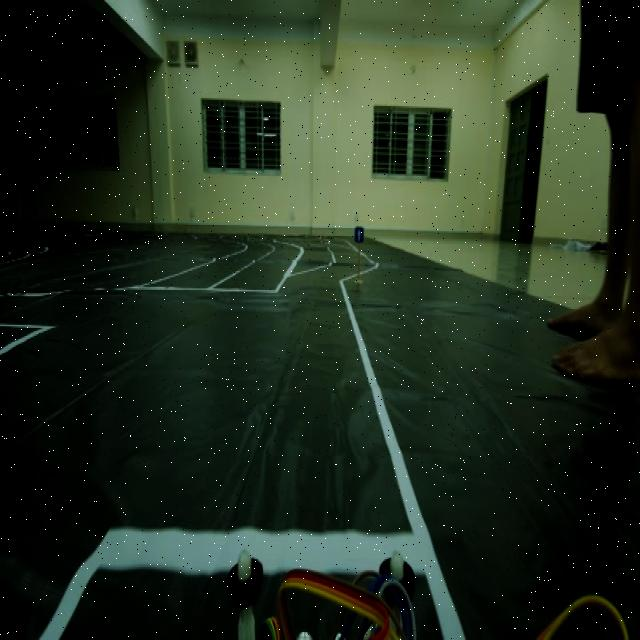onewayroad: (352, 218, 368, 248)
